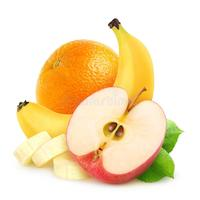apple: (71, 89, 162, 182)
orange: (38, 35, 116, 111)
